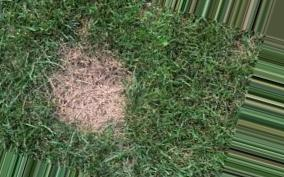patch: (61, 64, 122, 122)
